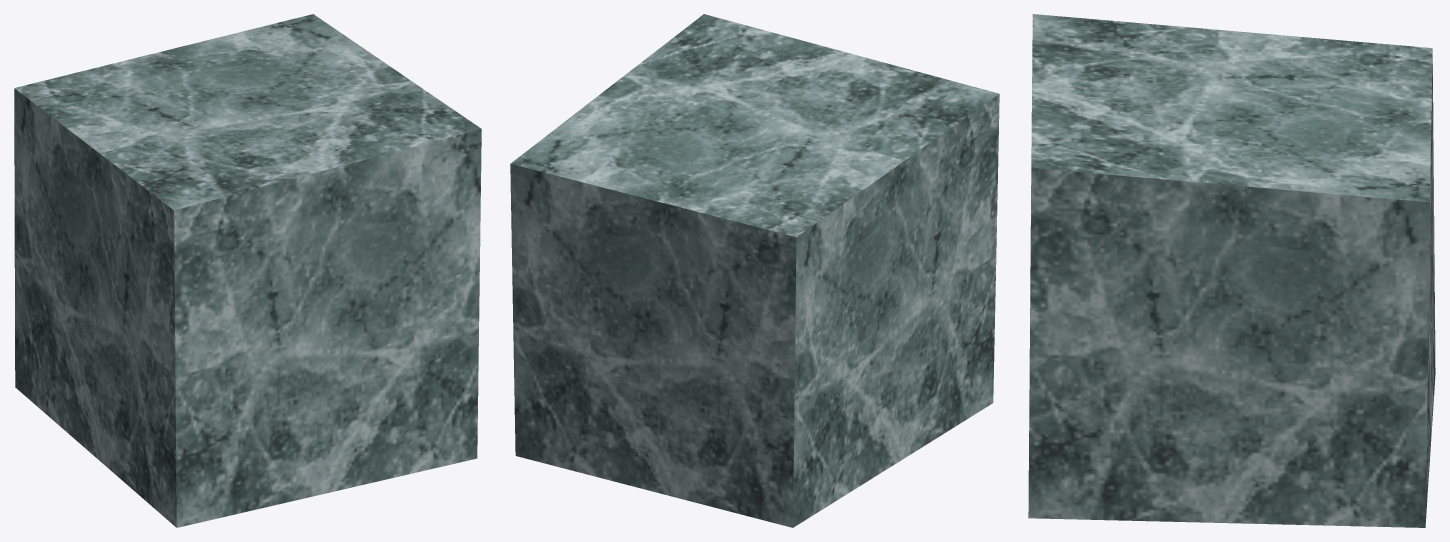
File: HB_Ice_Cube.fbx
3 renders of one model, left to right at view 1: azimuth 30°, elevation 25°; view 2: azimuth 150°, elevation 25°; view 3: azimuth 270°, elevation 25°, orthographic. The views are drawn at different scales.
Visible parts, largest first — view 1: HB_Ice_Cube; view 2: HB_Ice_Cube; view 3: HB_Ice_Cube.
Boxes of the visible parts, box(x1,y1,x2,y2) form: HB_Ice_Cube: box(14, 14, 481, 527); HB_Ice_Cube: box(510, 14, 999, 527); HB_Ice_Cube: box(1028, 14, 1435, 527).
Bounding box in the file's own units: 0.0281 × 0.0272 × 0.0284.
1 material, 1 textured.
